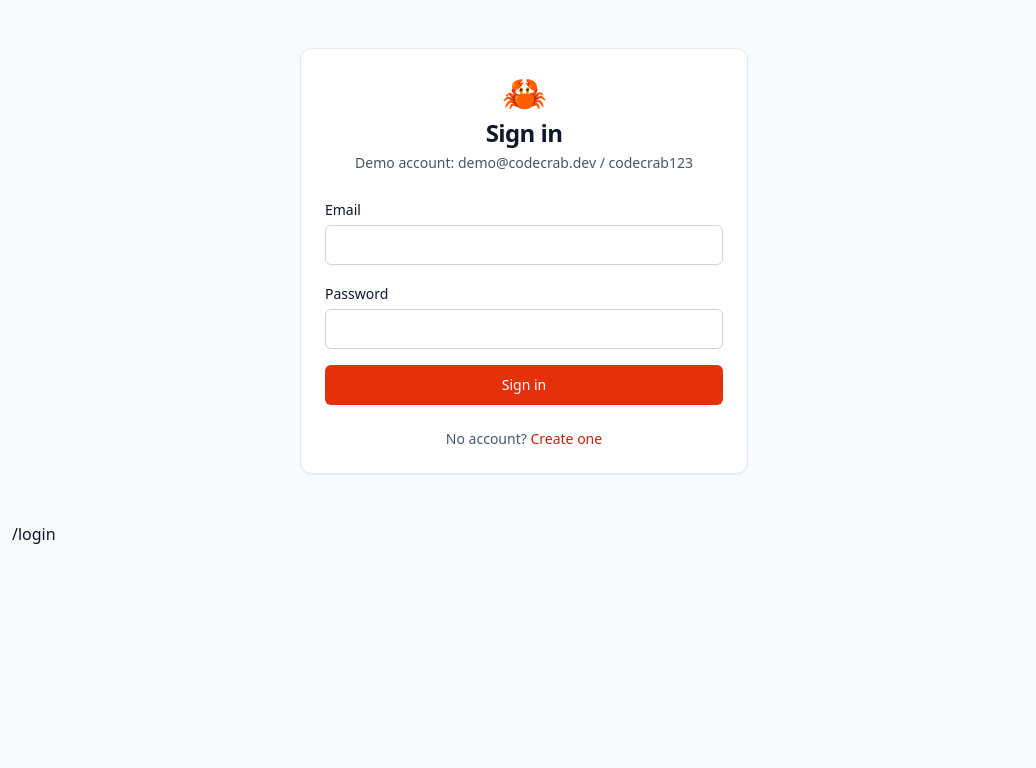
Test: Login page › shows the API error and stays on the page for bad credentials
Type "demo@codecrab.dev" into the field labelled "Email" at (524, 245), box [325,225,723,265]
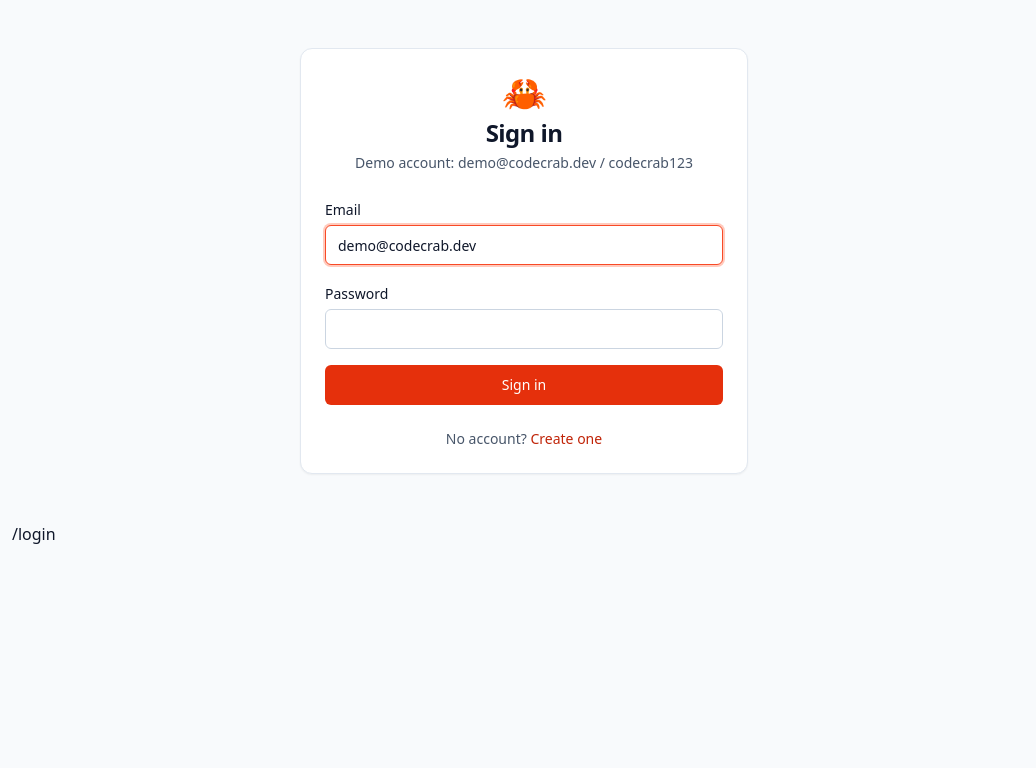
Type "wrong-password" into the password field labelled "Password" at (524, 329), box [325,309,723,349]
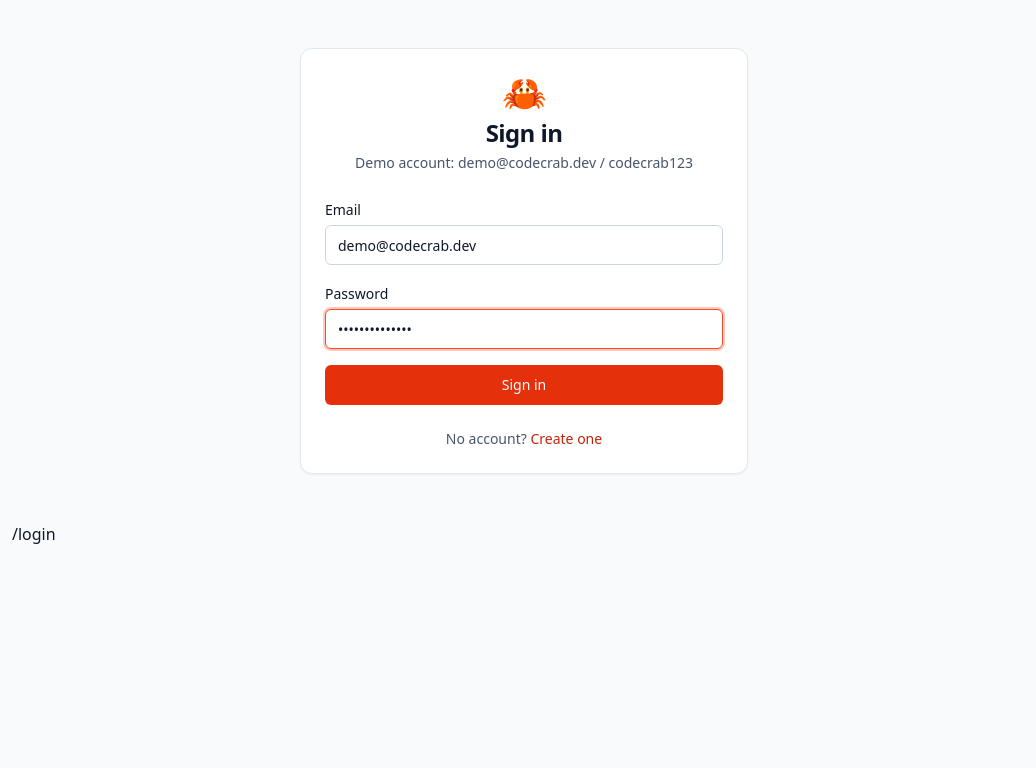
Click the button "Sign in" at (524, 385), box [325,365,723,405]
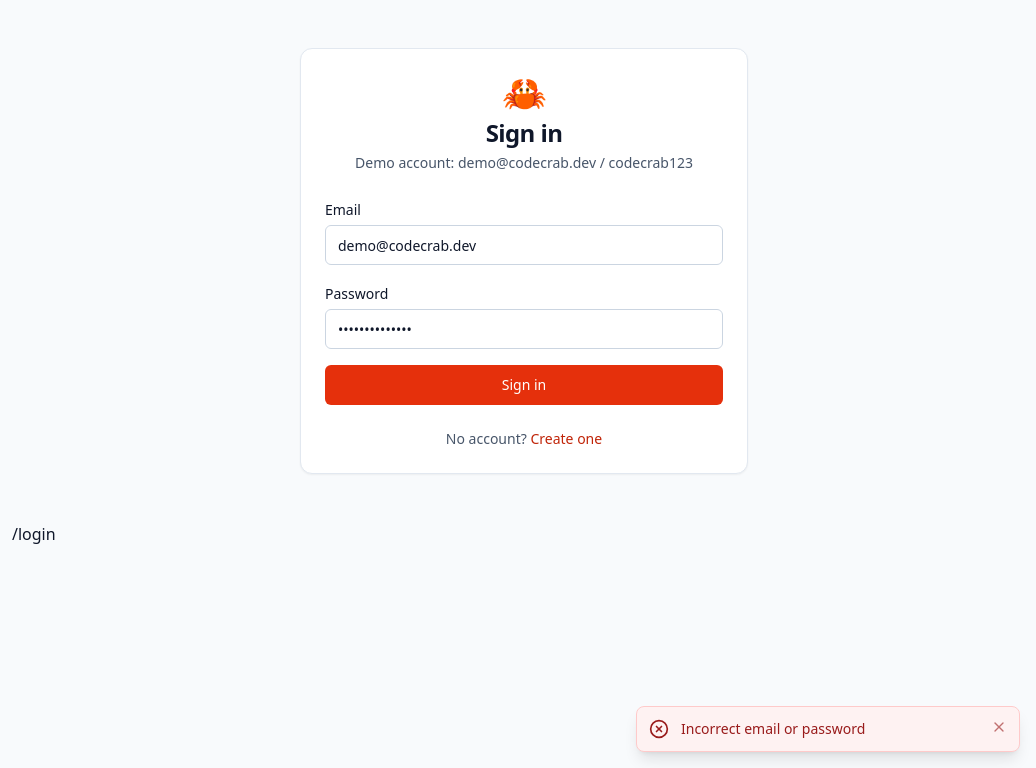
Expected: the text with test id "location" reads "/login", [12,523,56,545]
Now the text "Incorrect email or password" is shown, box [681,719,865,738]
